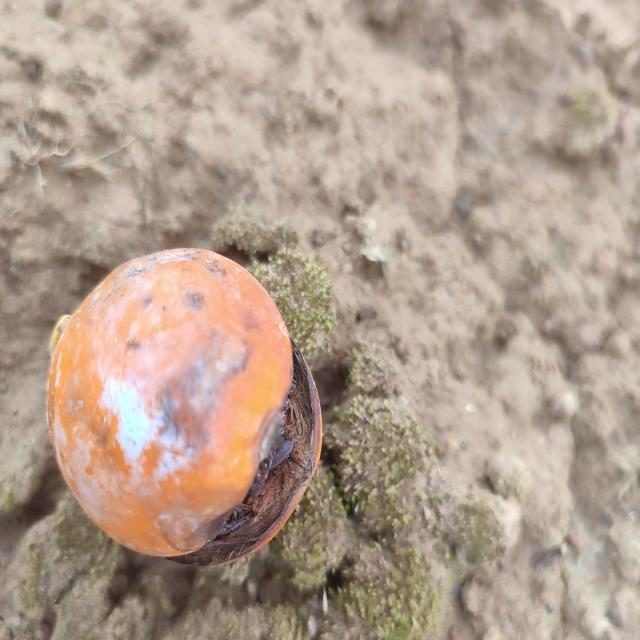damaged: (45, 249, 315, 563)
